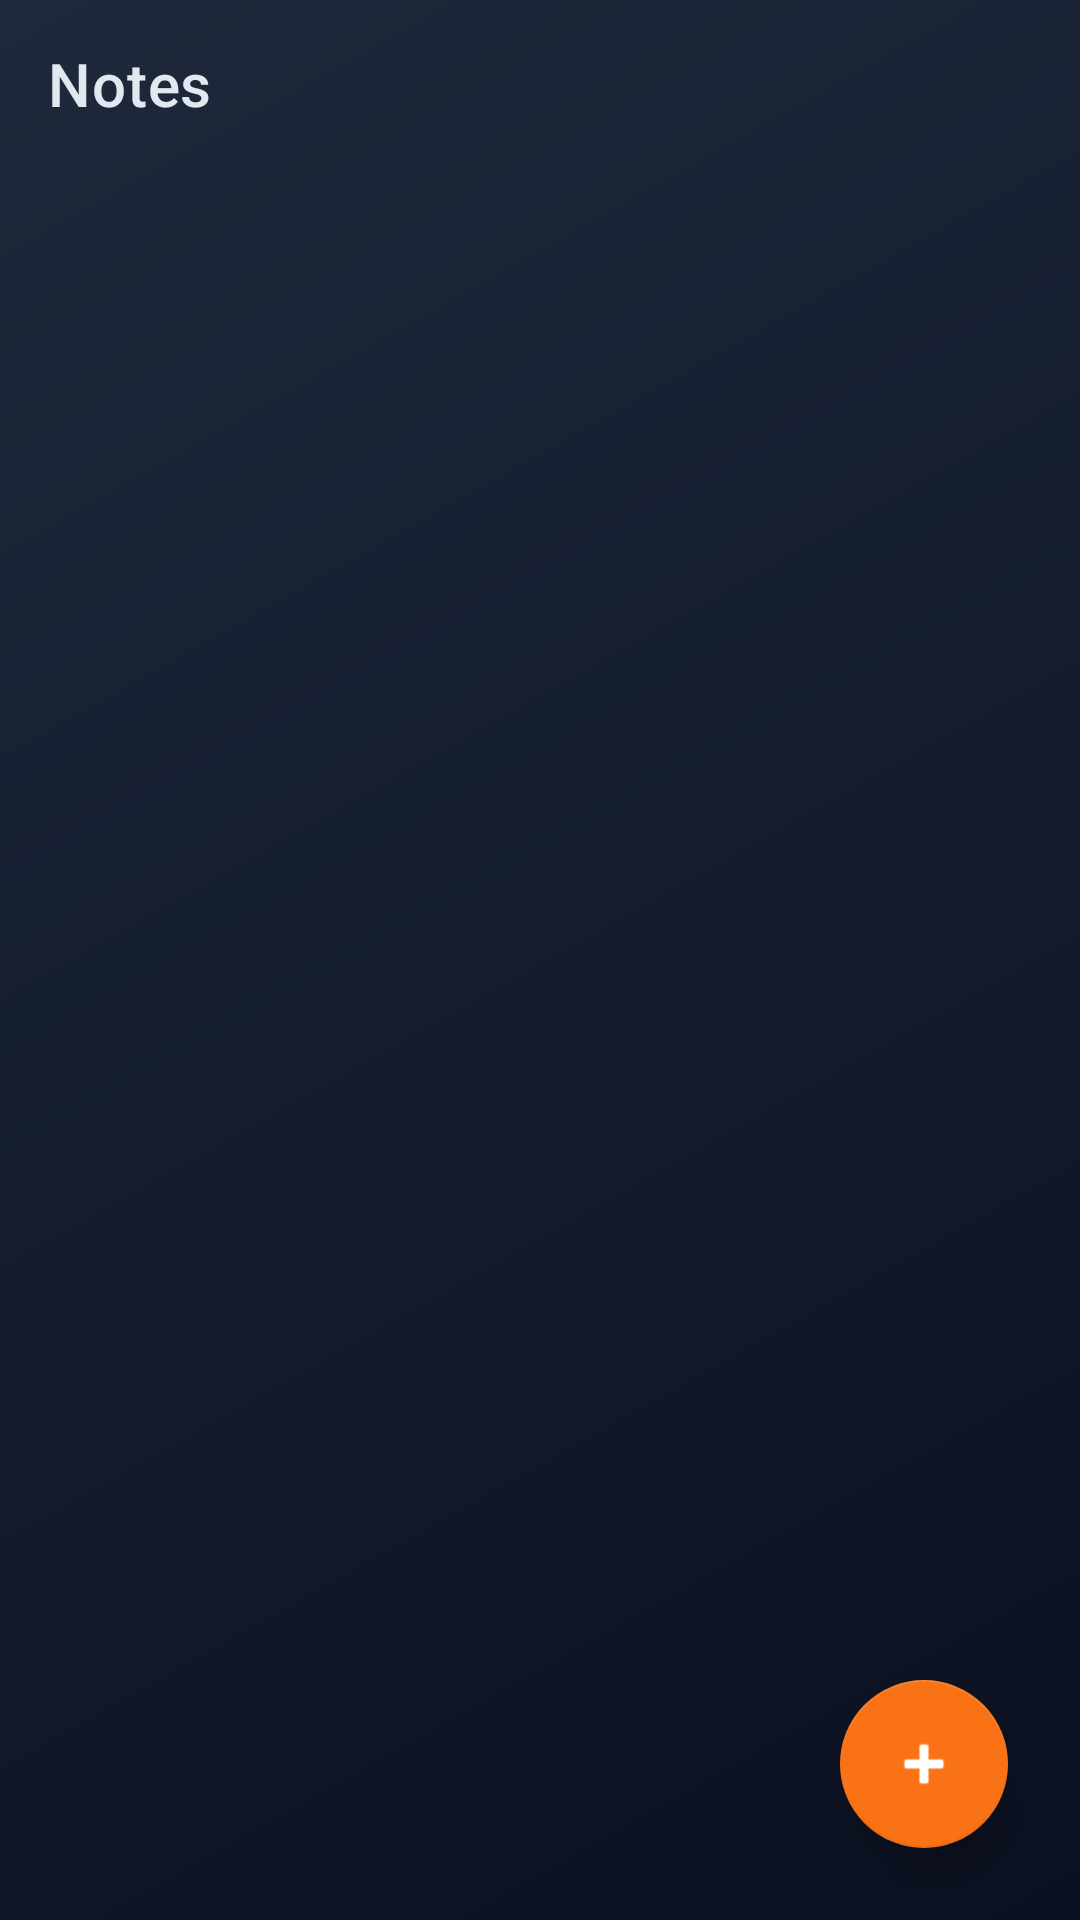

Icon click points for this 1080 x 1920 phone screenshot, format [x,y]:
Add note: [924,1764]
